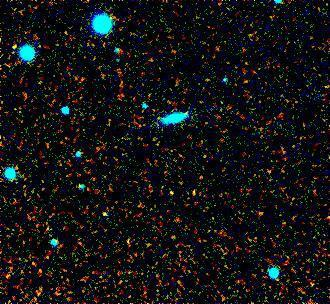star: (0, 29, 30, 59)
